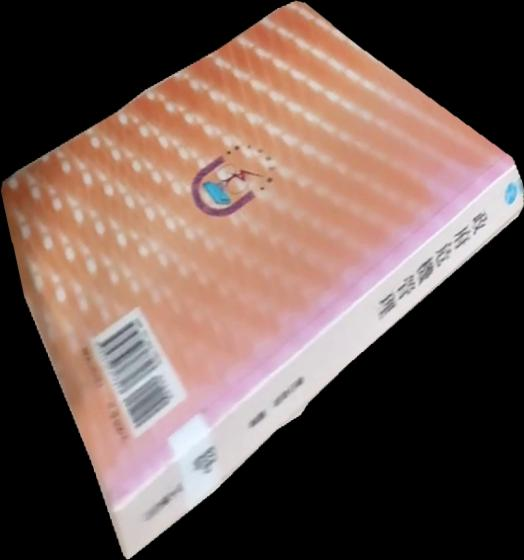flat: (1, 1, 524, 560)
